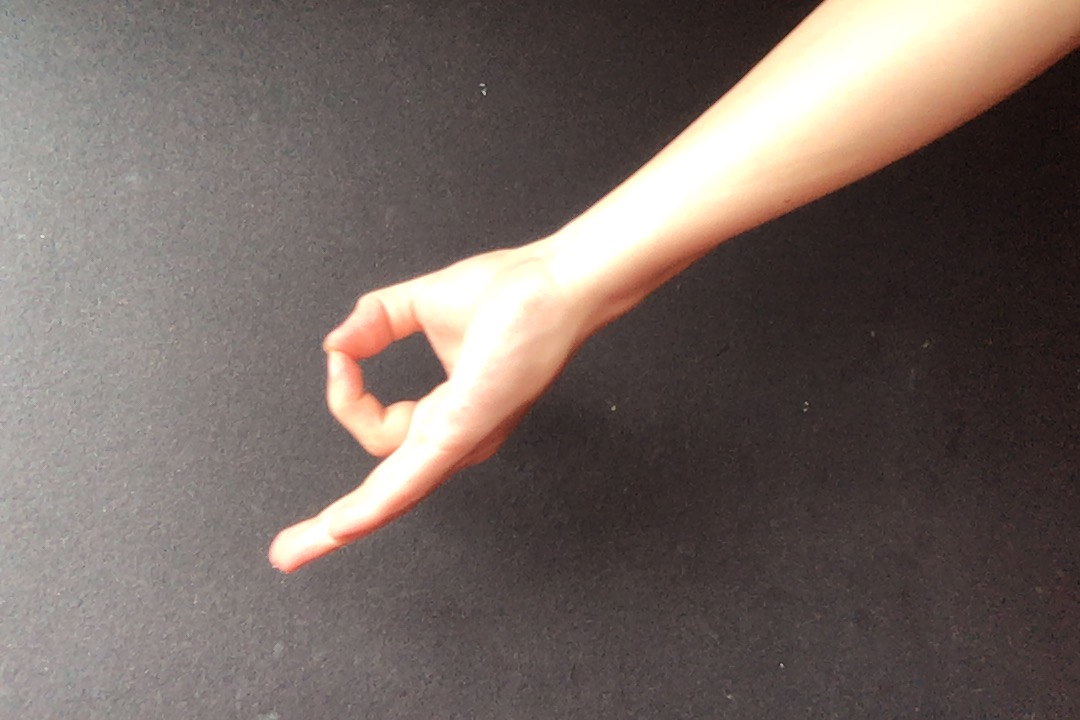oksign: (263, 241, 626, 578)
